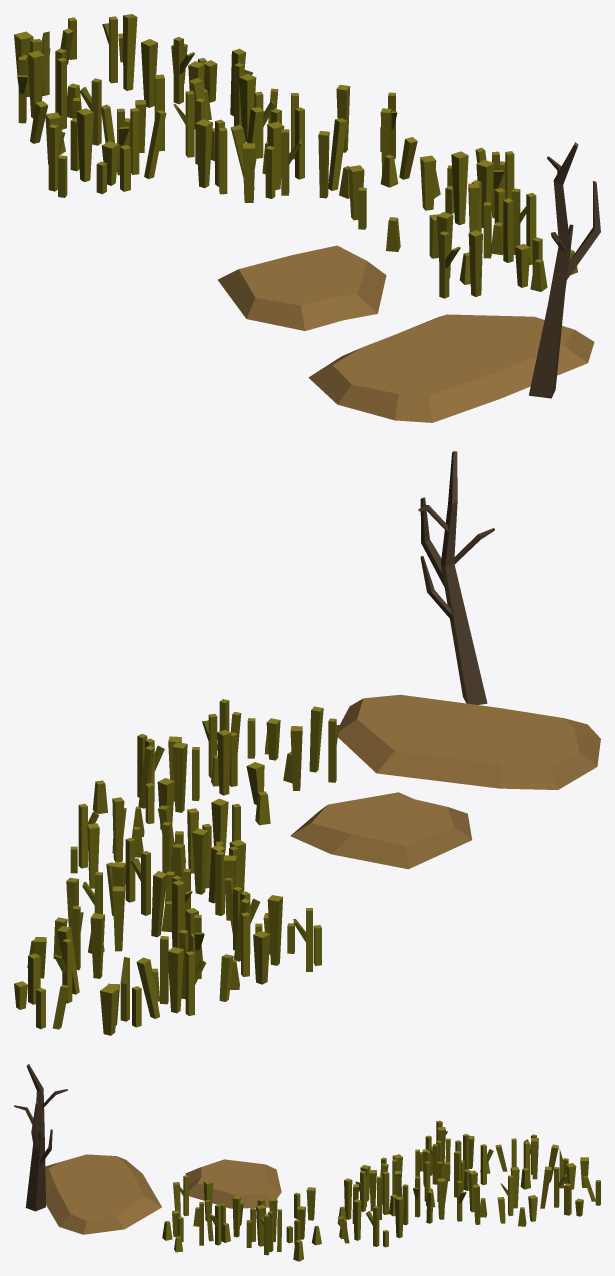
The model's file is SF_Env_Swamp_Preset_08.FBX.
The picture shows the model from 3 angles, top to bottom: view 1: azimuth 30°, elevation 25°; view 2: azimuth 150°, elevation 25°; view 3: azimuth 270°, elevation 25°; orthographic projection. The views are drawn at different scales.
Visible parts, largest first — view 1: SF_Env_Swamp_Preset_08_Elements1, SF_Env_Swamp_Preset_08_Elements2, SF_Env_Swamp_Preset_08_Elements120, SF_Env_Swamp_Preset_08_Elements86, SF_Env_Swamp_Preset_08_Elements50, SF_Env_Swamp_Preset_08_Elements60, SF_Env_Swamp_Preset_08_Elements12, SF_Env_Swamp_Preset_08_Elements23, SF_Env_Swamp_Preset_08_Elements40, SF_Env_Swamp_Preset_08_Elements107, SF_Env_Swamp_Preset_08_Elements21, SF_Env_Swamp_Preset_08_Elements66 (+26 smaller); view 2: SF_Env_Swamp_Preset_08_Elements1, SF_Env_Swamp_Preset_08_Elements2, SF_Env_Swamp_Preset_08_Elements120, SF_Env_Swamp_Preset_08_Elements86, SF_Env_Swamp_Preset_08_Elements62, SF_Env_Swamp_Preset_08_Elements50, SF_Env_Swamp_Preset_08_Elements21, SF_Env_Swamp_Preset_08_Elements88, SF_Env_Swamp_Preset_08_Elements44, SF_Env_Swamp_Preset_08_Elements23, SF_Env_Swamp_Preset_08_Elements57, SF_Env_Swamp_Preset_08_Elements54 (+2 smaller); view 3: SF_Env_Swamp_Preset_08_Elements1, SF_Env_Swamp_Preset_08_Elements2, SF_Env_Swamp_Preset_08_Elements120, SF_Env_Swamp_Preset_08_Elements114, SF_Env_Swamp_Preset_08_Elements41, SF_Env_Swamp_Preset_08_Elements66, SF_Env_Swamp_Preset_08_Elements117, SF_Env_Swamp_Preset_08_Elements88, SF_Env_Swamp_Preset_08_Elements64, SF_Env_Swamp_Preset_08_Elements94, SF_Env_Swamp_Preset_08_Elements54, SF_Env_Swamp_Preset_08_Elements21 (+2 smaller).
Boxes of the visible parts, left/top/right/bottom form: SF_Env_Swamp_Preset_08_Elements1: left=308, top=314, right=594, bottom=422; SF_Env_Swamp_Preset_08_Elements2: left=218, top=245, right=386, bottom=330; SF_Env_Swamp_Preset_08_Elements120: left=529, top=142, right=600, bottom=398; SF_Env_Swamp_Preset_08_Elements86: left=451, top=151, right=468, bottom=225; SF_Env_Swamp_Preset_08_Elements50: left=76, top=108, right=93, bottom=181; SF_Env_Swamp_Preset_08_Elements60: left=195, top=119, right=212, bottom=187; SF_Env_Swamp_Preset_08_Elements12: left=123, top=14, right=137, bottom=90; SF_Env_Swamp_Preset_08_Elements23: left=141, top=39, right=157, bottom=107; SF_Env_Swamp_Preset_08_Elements40: left=328, top=118, right=347, bottom=190; SF_Env_Swamp_Preset_08_Elements107: left=468, top=230, right=482, bottom=296; SF_Env_Swamp_Preset_08_Elements21: left=27, top=50, right=44, bottom=118; SF_Env_Swamp_Preset_08_Elements66: left=239, top=73, right=256, bottom=142; SF_Env_Swamp_Preset_08_Elements1: left=338, top=694, right=600, bottom=789; SF_Env_Swamp_Preset_08_Elements2: left=290, top=792, right=472, bottom=869; SF_Env_Swamp_Preset_08_Elements120: left=418, top=451, right=494, bottom=704; SF_Env_Swamp_Preset_08_Elements86: left=172, top=742, right=187, bottom=812; SF_Env_Swamp_Preset_08_Elements62: left=192, top=828, right=208, bottom=894; SF_Env_Swamp_Preset_08_Elements50: left=267, top=895, right=282, bottom=965; SF_Env_Swamp_Preset_08_Elements21: left=167, top=947, right=183, bottom=1013; SF_Env_Swamp_Preset_08_Elements88: left=217, top=729, right=231, bottom=795; SF_Env_Swamp_Preset_08_Elements44: left=151, top=871, right=167, bottom=937; SF_Env_Swamp_Preset_08_Elements23: left=90, top=913, right=104, bottom=978; SF_Env_Swamp_Preset_08_Elements57: left=253, top=931, right=270, bottom=984; SF_Env_Swamp_Preset_08_Elements54: left=172, top=880, right=184, bottom=947; SF_Env_Swamp_Preset_08_Elements1: left=45, top=1154, right=161, bottom=1234; SF_Env_Swamp_Preset_08_Elements2: left=185, top=1159, right=281, bottom=1208; SF_Env_Swamp_Preset_08_Elements120: left=14, top=1064, right=67, bottom=1211; SF_Env_Swamp_Preset_08_Elements114: left=394, top=1196, right=403, bottom=1238; SF_Env_Swamp_Preset_08_Elements41: left=382, top=1171, right=389, bottom=1214; SF_Env_Swamp_Preset_08_Elements66: left=437, top=1178, right=445, bottom=1219; SF_Env_Swamp_Preset_08_Elements117: left=353, top=1199, right=361, bottom=1240; SF_Env_Swamp_Preset_08_Elements88: left=232, top=1196, right=240, bottom=1237; SF_Env_Swamp_Preset_08_Elements64: left=344, top=1178, right=352, bottom=1219; SF_Env_Swamp_Preset_08_Elements94: left=256, top=1204, right=265, bottom=1246; SF_Env_Swamp_Preset_08_Elements54: left=454, top=1150, right=461, bottom=1197; SF_Env_Swamp_Preset_08_Elements21: left=531, top=1138, right=538, bottom=1179.
Size of the model in its own units: 11.38 by 7.76 by 27.27.
